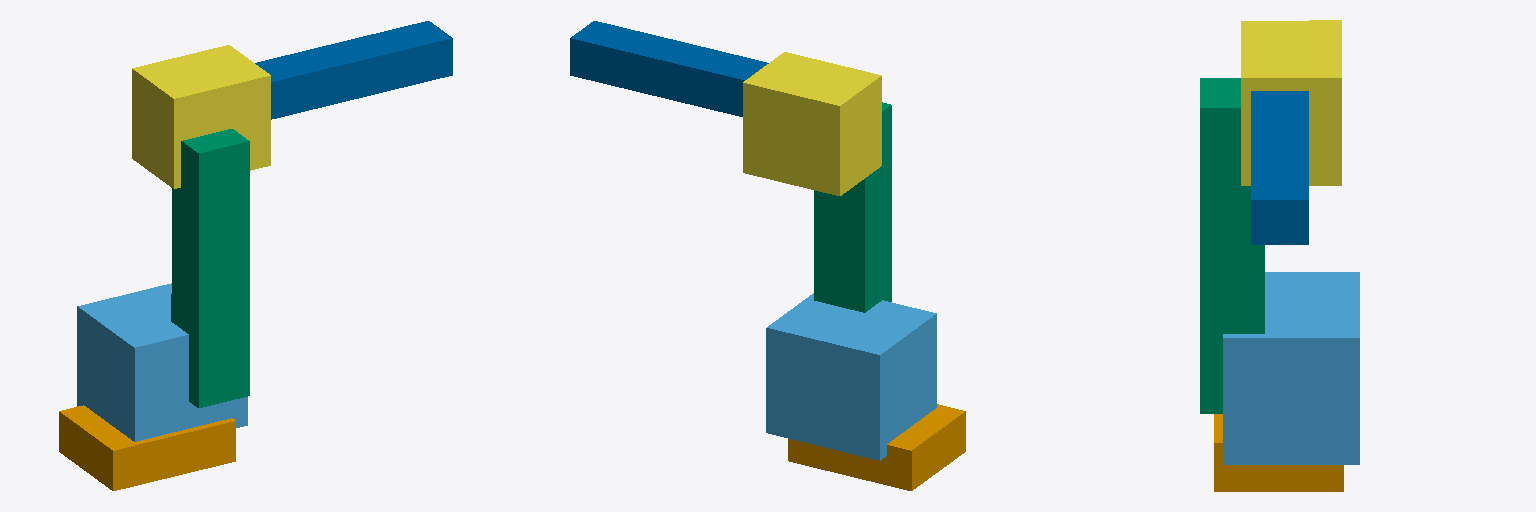
URDF robot description ([local-path]/OneDrive/Documents/Solar Glass Panel Manufacturing ):
<?xml version="1.0"?>
<robot name="[local-path]/OneDrive/Documents/Solar Glass Panel Manufacturing Factory/ABB IRB 4600400.urdf" xmlns:xacro="http://ros.org/wiki/xacro">
  <link name="base_link">
    <visual>
      <origin xyz="-0.063119 0 0.106497" rpy="0 0 0"/>
      <geometry>
        <box size="0.676133 0.514411 0.213001"/>
      </geometry>
    </visual>
    <collision>
      <origin xyz="-0.063119 0 0.106497" rpy="0 0 0"/>
      <geometry>
        <box size="0.676133 0.514411 0.213001"/>
      </geometry>
    </collision>
  </link>
  <joint name="A motor" type="revolute">
    <parent link="base_link"/>
    <child link="solid"/>
    <axis xyz="0 0 1"/>
    <limit effort="10000" lower="-3.1415" upper="3.1415" velocity="10"/>
    <origin xyz="0 0 0.159498" rpy="0 0 0.001423"/>
  </joint>
  <link name="solid">
    <visual>
      <origin xyz="0.046699 0.049037 0.270246" rpy="0 0 0"/>
      <geometry>
        <box size="0.621392 0.540918 0.552493"/>
      </geometry>
    </visual>
    <collision>
      <origin xyz="0.046699 0.049037 0.270246" rpy="0 0 0"/>
      <geometry>
        <box size="0.621392 0.540918 0.552493"/>
      </geometry>
    </collision>
  </link>
  <joint name="B motor" type="revolute">
    <parent link="solid"/>
    <child link="solid_0"/>
    <axis xyz="0 1 0"/>
    <limit effort="10000" lower="-1.5708" upper="2.61799" velocity="10"/>
    <origin xyz="0.178445 -0.122498 0.334888" rpy="0 0.000312 0"/>
  </joint>
  <link name="solid_0">
    <visual>
      <origin xyz="-0.003447 -0.061473 0.529095" rpy="0 0 0"/>
      <geometry>
        <box size="0.279997 0.256948 1.33599"/>
      </geometry>
    </visual>
    <collision>
      <origin xyz="-0.003447 -0.061473 0.529095" rpy="0 0 0"/>
      <geometry>
        <box size="0.279997 0.256948 1.33599"/>
      </geometry>
    </collision>
  </link>
  <joint name="C motor" type="revolute">
    <parent link="solid_0"/>
    <child link="solid_1"/>
    <axis xyz="0 1 0"/>
    <limit effort="10000" lower="-3.1415" upper="1.309" velocity="10"/>
    <origin xyz="-0.003447 -0.0267 1.095594" rpy="0 0.000322 0"/>
  </joint>
  <link name="solid_1">
    <visual>
      <origin xyz="0.085806 0.199325 0.094072" rpy="0 0 0"/>
      <geometry>
        <box size="0.533578 0.398651 0.472912"/>
      </geometry>
    </visual>
    <collision>
      <origin xyz="0.085806 0.199325 0.094072" rpy="0 0 0"/>
      <geometry>
        <box size="0.533578 0.398651 0.472912"/>
      </geometry>
    </collision>
  </link>
  <joint name="D motor" type="revolute">
    <parent link="solid_1"/>
    <child link="solid_2"/>
    <axis xyz="1 0 0"/>
    <limit effort="10000" lower="-6.98132" upper="6.98132" velocity="10"/>
    <origin xyz="0.340095 0.149198 0.174998" rpy="0.00025 0 0"/>
  </joint>
  <link name="solid_2">
    <visual>
      <origin xyz="0.511874 0.003021 0" rpy="0 0 0"/>
      <geometry>
        <box size="1.04097 0.228038 0.195956"/>
      </geometry>
    </visual>
    <collision>
      <origin xyz="0.511874 0.003021 0" rpy="0 0 0"/>
      <geometry>
        <box size="1.04097 0.228038 0.195956"/>
      </geometry>
    </collision>
  </link>
  <joint name="E motor" type="revolute">
    <parent link="solid_2"/>
    <child link="solid_3"/>
    <axis xyz="0 1 0"/>
    <limit effort="10000" lower="-2.18166" upper="2.0944" velocity="10"/>
    <origin xyz="0.929888 0 0" rpy="0 0 0"/>
  </joint>
  <link name="solid_3">
    <visual>
      <origin xyz="0 -0.0015 0" rpy="0 0 0"/>
      <geometry>
        <box size="0.159731 0.130998 0.160194"/>
      </geometry>
    </visual>
    <collision>
      <origin xyz="0 -0.0015 0" rpy="0 0 0"/>
      <geometry>
        <box size="0.159731 0.130998 0.160194"/>
      </geometry>
    </collision>
  </link>
  <joint name="F motor" type="revolute">
    <parent link="solid_3"/>
    <child link="solid_4"/>
    <axis xyz="1 0 0"/>
    <limit effort="10000" lower="-6.98132" upper="6.98132" velocity="10"/>
    <origin xyz="0.125 0 0" rpy="0 0 0"/>
  </joint>
  <link name="solid_4">
  </link>
  <link name="vacuum gripper">
  </link>
  <joint name="solid_4_vacuum gripper_joint" type="fixed">
    <parent link="solid_4"/>
    <child link="vacuum gripper"/>
    <origin xyz="0 0 0" rpy="0 0 0"/>
  </joint>
  <link name="distance sensor">
  </link>
  <joint name="solid_4_distance sensor_joint" type="fixed">
    <parent link="solid_4"/>
    <child link="distance sensor"/>
    <origin xyz="0 0 0" rpy="0 0 0"/>
  </joint>
  <link name="touch sensor">
  </link>
  <joint name="solid_4_touch sensor_joint" type="fixed">
    <parent link="solid_4"/>
    <child link="touch sensor"/>
    <origin xyz="0 0 0" rpy="0 0 0"/>
  </joint>
</robot>

--- Facts derived from the render (not from the file) ---
3 views of the same robot in one strip: view 1: azimuth 30°, elevation 25°; view 2: azimuth 150°, elevation 25°; view 3: azimuth 270°, elevation 25° (orthographic).
Model [local-path]/OneDrive/Documents/Solar Glass Panel Manufacturing  with 10 links and 9 joints (6 revolute, 3 fixed), rooted at base_link, posed every joint at zero.
Visible links, largest first — view 1: solid_0, solid, solid_1, solid_2, base_link; view 2: solid, solid_1, solid_2, solid_0, base_link; view 3: solid, solid_0, solid_1, solid_2, base_link.
Link boxes in pixels (x1=…): solid_0: x1=171, y1=129, x2=249, y2=407; solid: x1=77, y1=283, x2=247, y2=441; solid_1: x1=132, y1=45, x2=270, y2=188; solid_2: x1=255, y1=21, x2=452, y2=119; base_link: x1=59, y1=405, x2=235, y2=490; solid: x1=766, y1=293, x2=936, y2=460; solid_1: x1=743, y1=52, x2=881, y2=195; solid_2: x1=570, y1=21, x2=768, y2=116; solid_0: x1=814, y1=102, x2=891, y2=312; base_link: x1=788, y1=404, x2=965, y2=490; solid: x1=1223, y1=272, x2=1359, y2=464; solid_0: x1=1200, y1=78, x2=1264, y2=413; solid_1: x1=1241, y1=20, x2=1341, y2=185; solid_2: x1=1251, y1=91, x2=1308, y2=244; base_link: x1=1214, y1=414, x2=1343, y2=491.
Bounding box of the posed robot: 1.95 × 0.6324 × 1.92 m (x, y, z).
Geometry: primitives only (box / cylinder / sphere), no mesh files.
